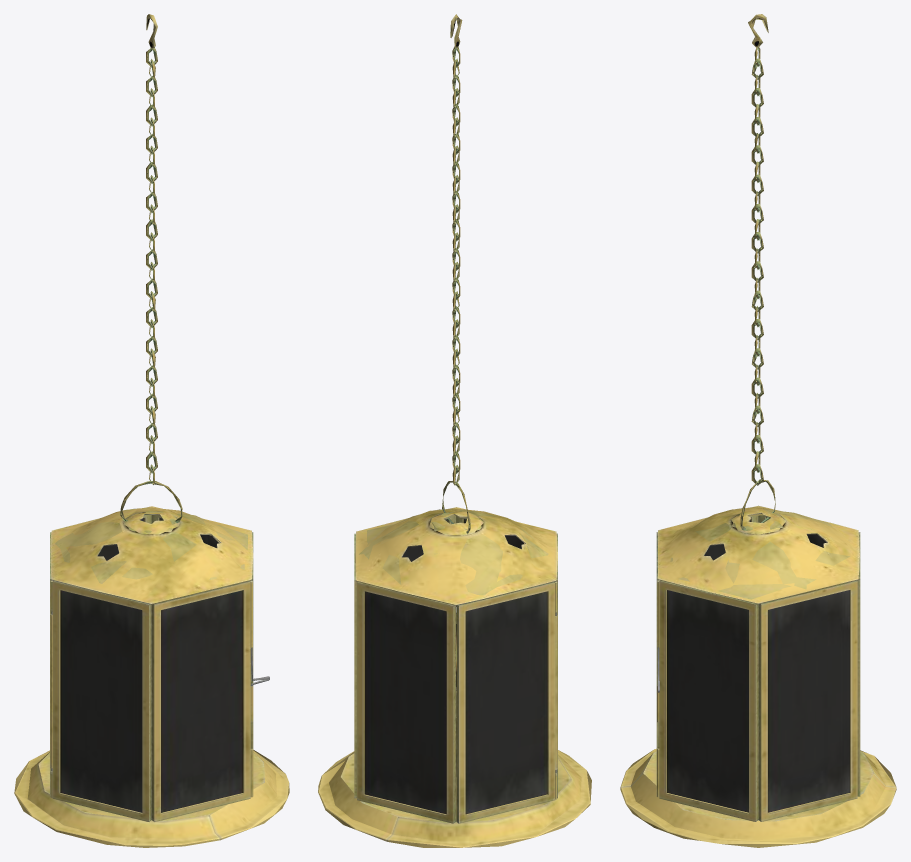
File: brass_diya_lantern.lod1.glb
The picture shows the model from 3 angles, left to right: view 1: azimuth 30°, elevation 25°; view 2: azimuth 150°, elevation 25°; view 3: azimuth 270°, elevation 25°; orthographic projection.
Parts seen in each view (by area): view 1: brass_diya_lantern, brass_diya_lantern_chain; view 2: brass_diya_lantern, brass_diya_lantern_chain; view 3: brass_diya_lantern, brass_diya_lantern_chain.
Part boxes in pixels (<box>): brass_diya_lantern: <box>14,506,289,847</box>; brass_diya_lantern_chain: <box>146,14,157,484</box>; brass_diya_lantern: <box>318,507,591,847</box>; brass_diya_lantern_chain: <box>450,14,462,485</box>; brass_diya_lantern: <box>620,505,896,847</box>; brass_diya_lantern_chain: <box>748,14,768,485</box>.
Size of the model in its own units: 0.123 by 0.3807 by 0.123.
Materials: 3 (3 with a texture image).
